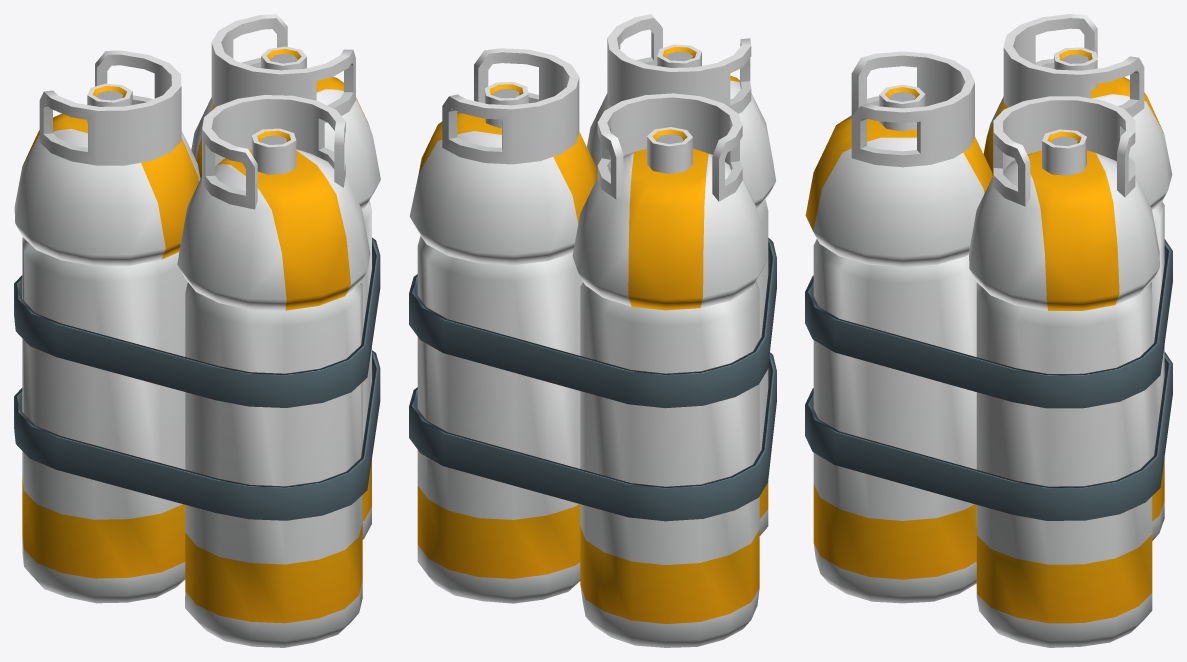
Rendered from Baloon_013.fbx.
The picture shows the model from 3 angles, left to right: view 1: azimuth 30°, elevation 25°; view 2: azimuth 150°, elevation 25°; view 3: azimuth 270°, elevation 25°; orthographic projection.
Parts seen in each view (by area): view 1: Baloon_013; view 2: Baloon_013; view 3: Baloon_013.
Boxes of the visible parts, x1,y1,x2,y2 form: Baloon_013: [14, 14, 380, 647]; Baloon_013: [409, 14, 776, 647]; Baloon_013: [805, 14, 1172, 647].
Bounding box in the file's own units: 77.16 × 73.29 × 107.
